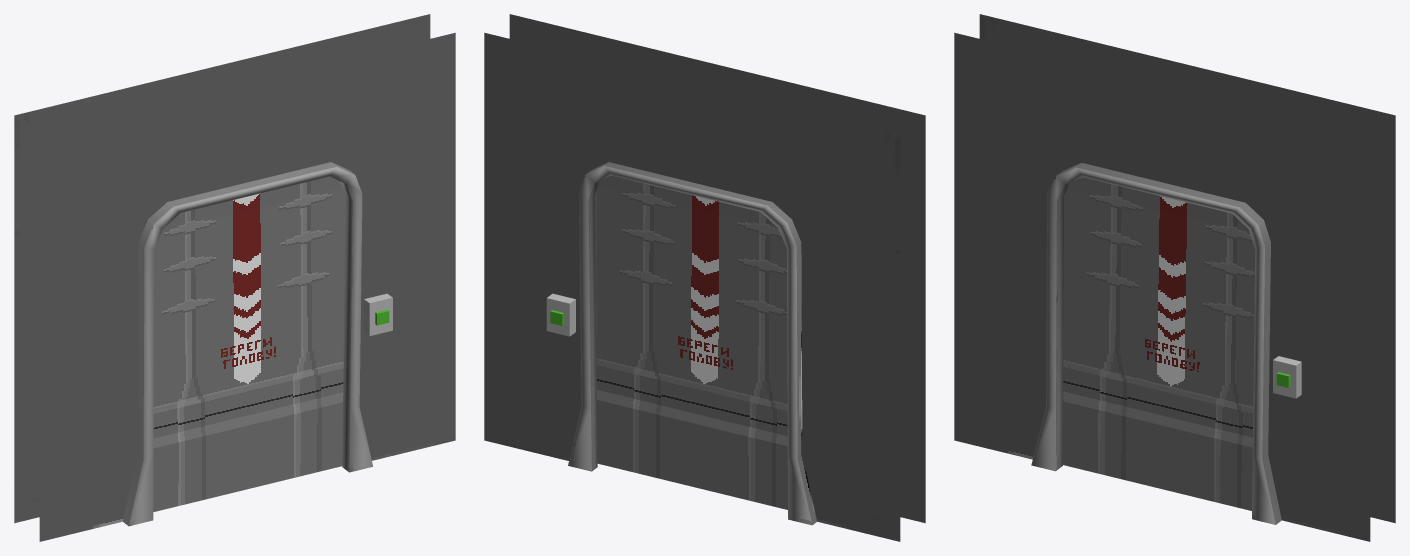
The model's file is stable-door.glb.
3 renders of one model, left to right at view 1: azimuth 30°, elevation 25°; view 2: azimuth 150°, elevation 25°; view 3: azimuth 330°, elevation 25°, orthographic.
Visible parts, largest first — view 1: bunker-door, bunker-door.001; view 2: bunker-door, bunker-door.001; view 3: bunker-door, bunker-door.001.
Part boxes in pixels (bbox=[...]): bunker-door: bbox=[14, 14, 455, 541]; bunker-door.001: bbox=[153, 176, 345, 511]; bunker-door: bbox=[484, 14, 925, 541]; bunker-door.001: bbox=[596, 175, 787, 509]; bunker-door: bbox=[954, 14, 1395, 541]; bunker-door.001: bbox=[1063, 177, 1255, 510].
Size of the model in its own units: 4.3 by 4.03 by 0.7324.
2 materials, 2 textured.
